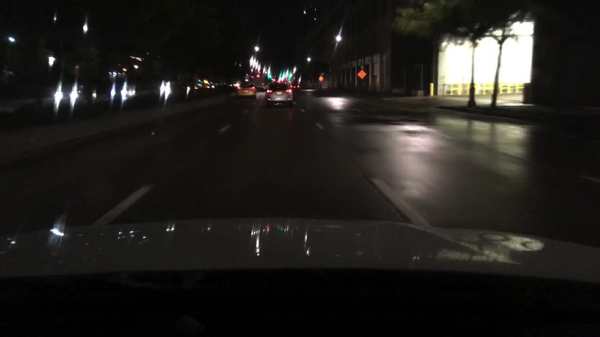car: (0, 85, 42, 121), (40, 84, 74, 114), (266, 81, 294, 110), (70, 81, 97, 107), (91, 80, 118, 105), (160, 79, 190, 97), (236, 79, 258, 99), (112, 78, 128, 103), (127, 83, 137, 100), (289, 81, 301, 93), (189, 85, 202, 96), (225, 82, 240, 90), (253, 86, 266, 94), (199, 85, 209, 93), (210, 82, 220, 90), (220, 80, 227, 91)
traffic light: (196, 77, 203, 84), (281, 69, 286, 78), (266, 73, 272, 80), (288, 69, 292, 78), (256, 74, 261, 80), (272, 77, 277, 83), (279, 72, 282, 78)
traffic sign: (357, 71, 367, 80), (318, 75, 324, 82)
